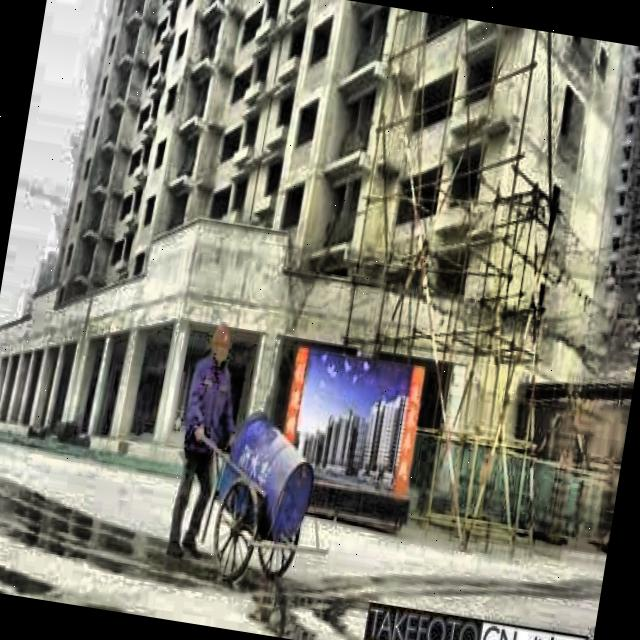helmet: (205, 318, 237, 371)
